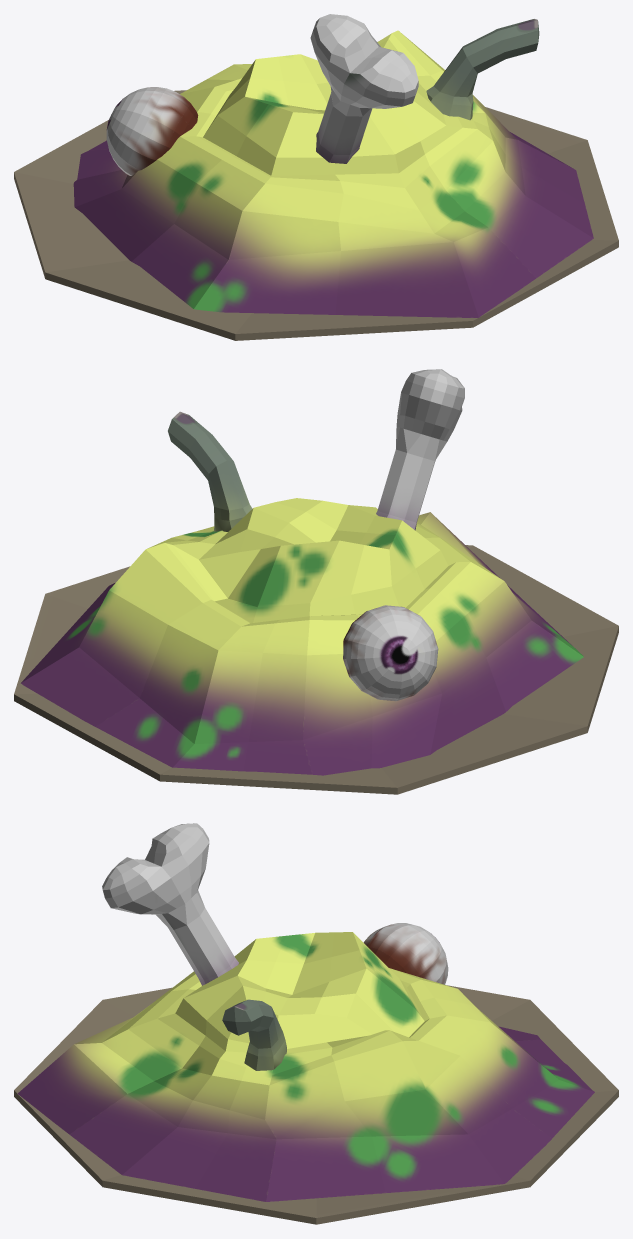
The model's file is Recipe_dubiousFood_v04.fbx.
3 renders of one model, top to bottom at view 1: azimuth 30°, elevation 25°; view 2: azimuth 150°, elevation 25°; view 3: azimuth 270°, elevation 25°, orthographic. The views are drawn at different scales.
Visible parts, largest first — view 1: Dubious, Plate, Bone, eyeball.001, Arm_Finger.001; view 2: Dubious, Plate, Bone, eyeball.001, Arm_Finger.001; view 3: Dubious, Plate, Bone, eyeball.001, Arm_Finger.001.
Boxes of the visible parts, box(x1,y1,x2,y2) form: Dubious: box(73, 30, 593, 317); Plate: box(14, 90, 618, 340); Bone: box(310, 14, 418, 163); eyeball.001: box(106, 87, 198, 175); Arm_Finger.001: box(426, 19, 539, 120); Dubious: box(21, 498, 583, 775); Plate: box(14, 545, 618, 794); Bone: box(376, 369, 464, 530); eyeball.001: box(343, 605, 438, 701); Arm_Finger.001: box(168, 411, 252, 531); Dubious: box(17, 932, 594, 1201); Plate: box(14, 985, 618, 1224); Bone: box(102, 823, 238, 985); eyeball.001: box(363, 923, 448, 984); Arm_Finger.001: box(222, 999, 286, 1070).
Size of the model in its own units: 27.09 by 12.8 by 27.09.
